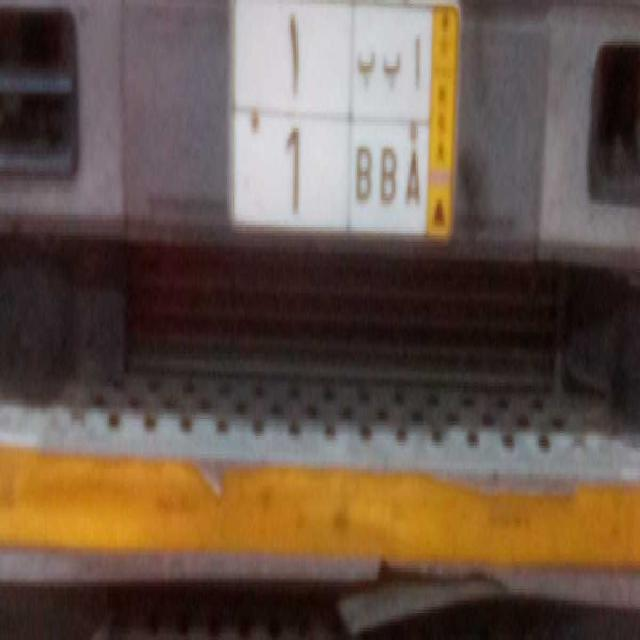license_plate: (231, 108, 428, 236)
